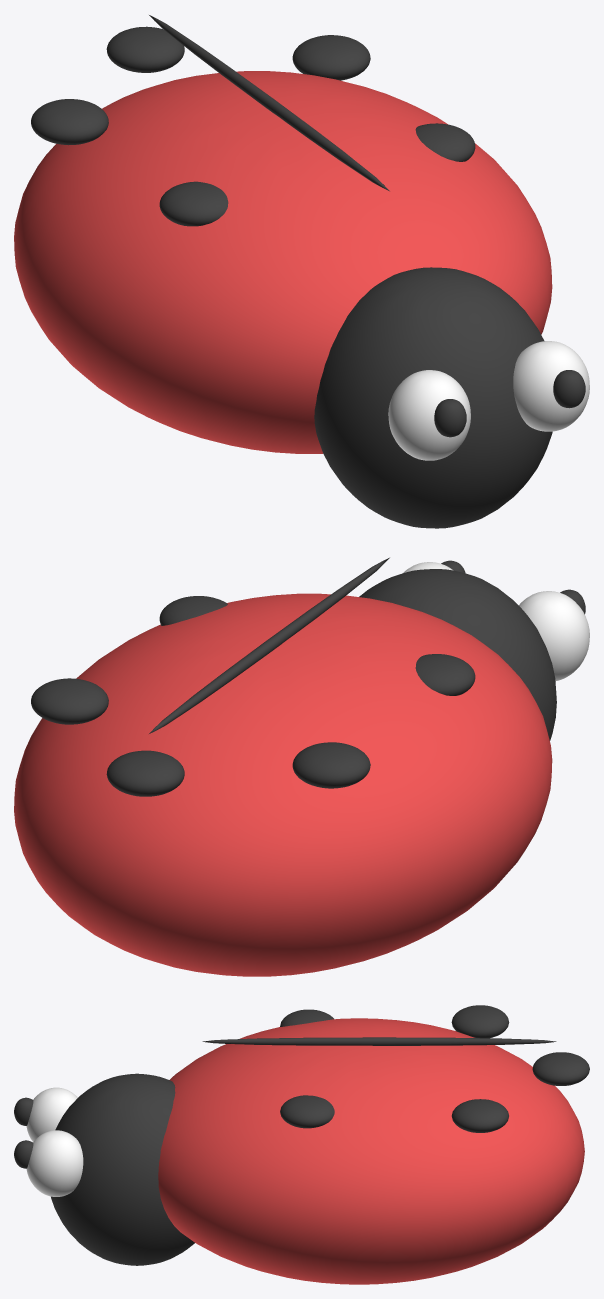
Rendered from ladybug_npc.glb.
3 views of the same model, one above another, from view 1: azimuth 30°, elevation 25°; view 2: azimuth 150°, elevation 25°; view 3: azimuth 270°, elevation 25° (orthographic). The views are drawn at different scales.
Visible parts, largest first — view 1: ladybug_npc; view 2: ladybug_npc; view 3: ladybug_npc.
Boxes of the visible parts, x1,y1,x2,y2 form: ladybug_npc: (14,15,589,528); ladybug_npc: (14,557,589,976); ladybug_npc: (14,1005,589,1284).
Bounding box in the file's own units: 0.3724 × 0.2417 × 0.5705.
